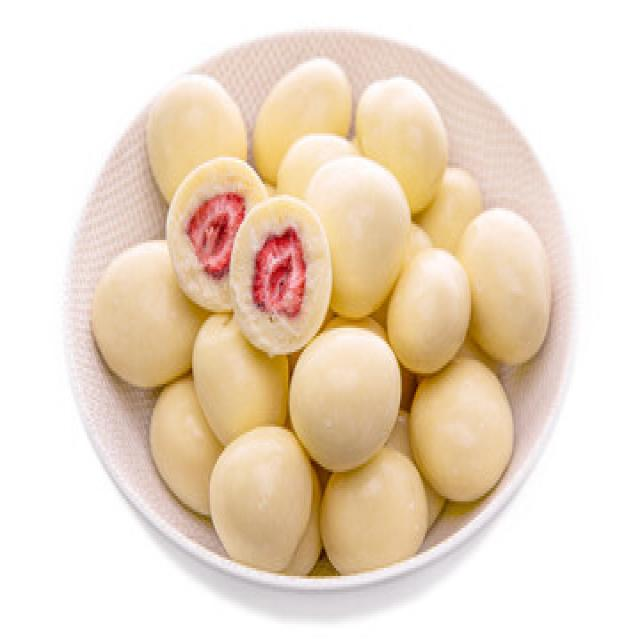Chocolate: (102, 58, 554, 584)
